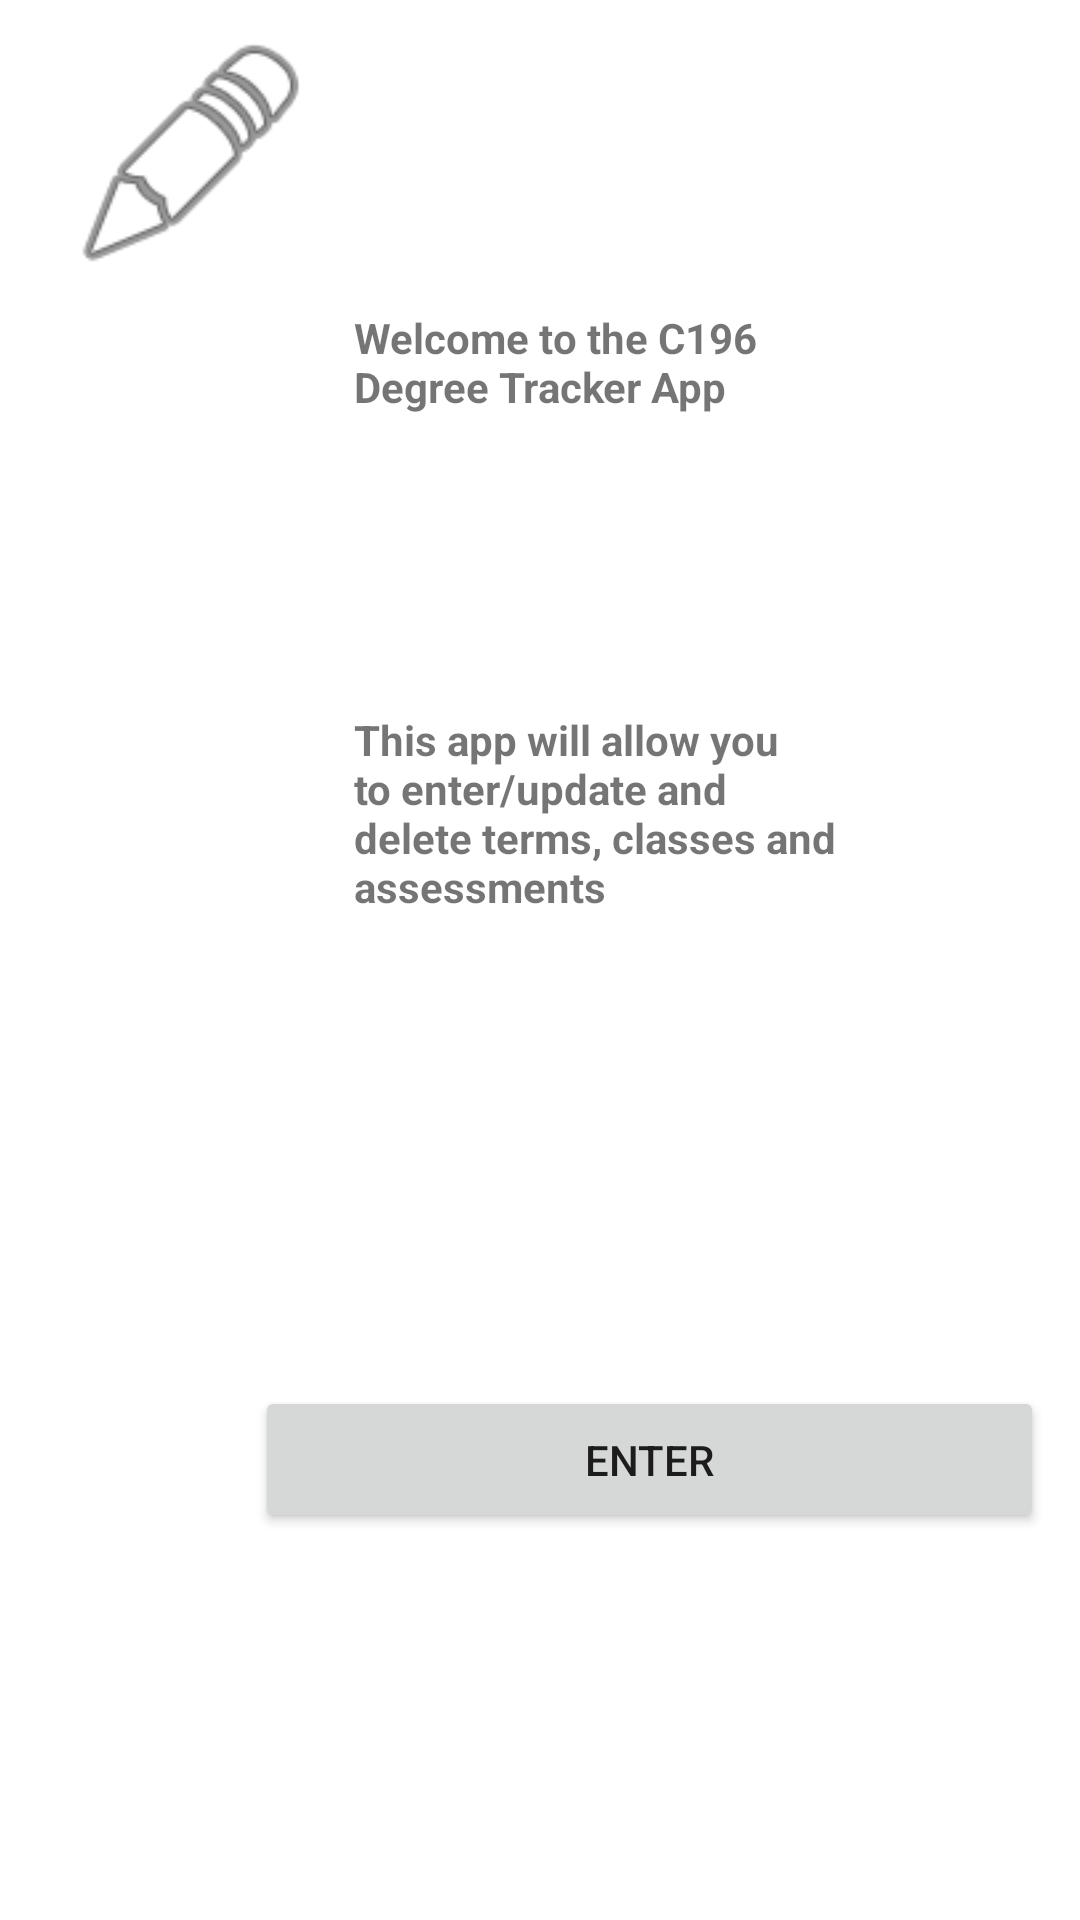

Icons on this 1080 x 1920 Android screen, each with its box as rect(x1, y1, x2, y2):
edit: rect(83, 45, 299, 261)
